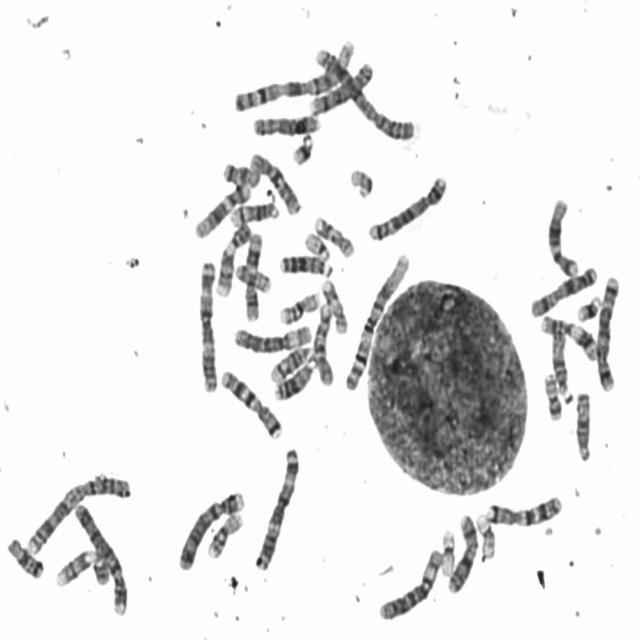A1: (228, 31, 360, 114), (340, 245, 413, 393)
A2: (310, 40, 417, 142), (22, 467, 134, 556)
A3: (249, 439, 302, 572), (193, 253, 220, 394)
B4: (71, 496, 130, 618), (172, 483, 246, 573)
B5: (364, 168, 449, 242), (592, 268, 622, 393)
C10: (245, 144, 303, 217), (309, 296, 336, 387)
C11: (536, 309, 599, 362), (240, 225, 264, 323)
C12: (190, 175, 252, 240), (542, 189, 581, 278)
C6: (374, 541, 444, 622), (230, 316, 314, 355)
C7: (216, 363, 284, 440), (481, 488, 564, 528)
C8: (305, 55, 375, 116), (248, 106, 323, 137)
C9: (212, 216, 254, 298), (49, 542, 112, 590)
D13: (270, 351, 318, 403), (275, 247, 334, 278)
D14: (265, 339, 316, 384), (226, 195, 282, 227)
D15: (546, 320, 572, 399), (571, 385, 594, 464)
E16: (203, 506, 245, 560), (274, 284, 322, 326)
E17: (309, 209, 356, 259), (318, 271, 350, 335)
E18: (3, 530, 46, 580), (218, 155, 262, 188)
F19: (472, 508, 498, 562), (436, 522, 458, 578)
F20: (539, 366, 564, 422), (94, 531, 113, 587)
G21: (287, 127, 316, 166), (572, 288, 603, 324)
G22: (345, 161, 375, 200), (300, 225, 332, 261)
X: (526, 259, 600, 318), (442, 507, 480, 595)
